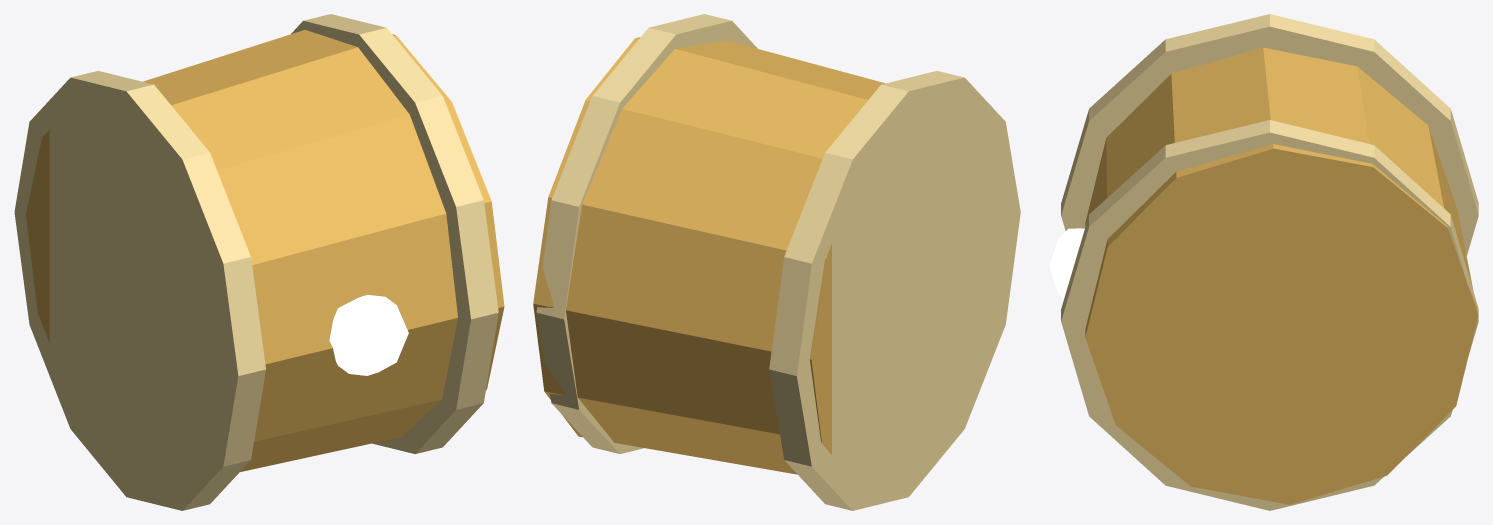
Rendered from first_guardian_bracer_r.glb.
3 renders of one model, left to right at view 1: azimuth 30°, elevation 25°; view 2: azimuth 150°, elevation 25°; view 3: azimuth 270°, elevation 25°, orthographic. The views are drawn at different scales.
Visible parts, largest first — view 1: first_guardian_bracer_r; view 2: first_guardian_bracer_r; view 3: first_guardian_bracer_r.
Boxes of the visible parts, left/top/right/bottom form: first_guardian_bracer_r: left=14, top=14, right=504, bottom=510; first_guardian_bracer_r: left=533, top=14, right=1020, bottom=510; first_guardian_bracer_r: left=1049, top=14, right=1478, bottom=510.
Size of the model in its own units: 0.2533 by 0.35 by 0.36.
